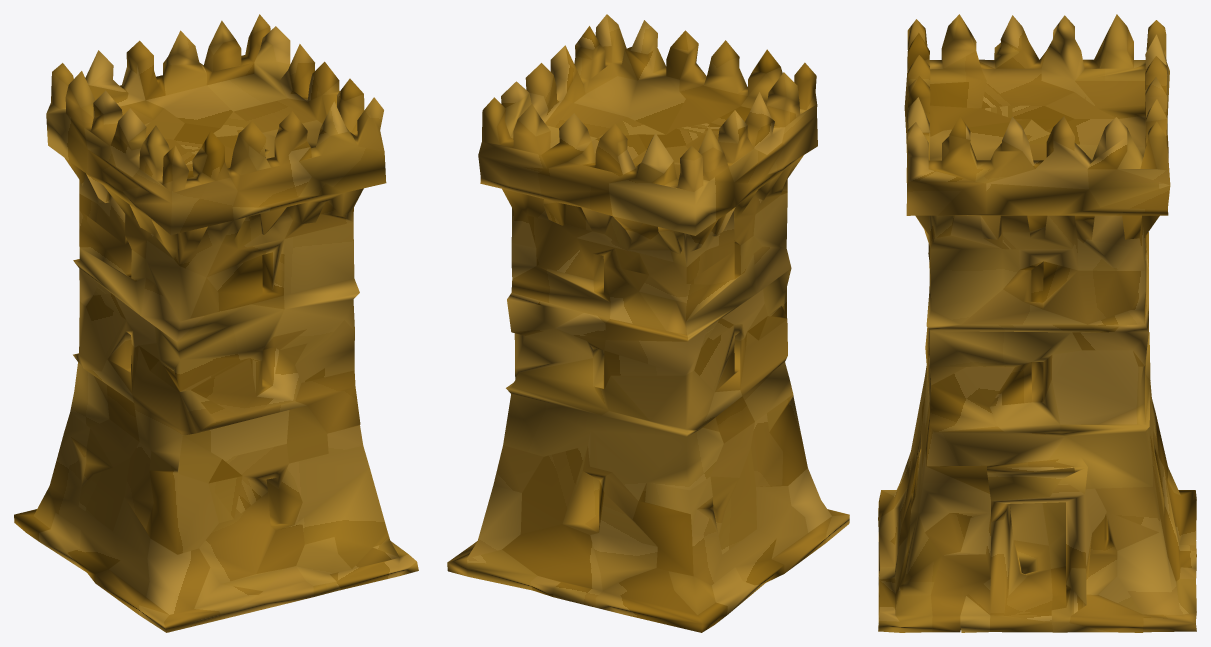
The model's file is castle_tower_medium_gold_lo.glb.
3 renders of one model, left to right at view 1: azimuth 30°, elevation 25°; view 2: azimuth 150°, elevation 25°; view 3: azimuth 270°, elevation 25°, orthographic. The views are drawn at different scales.
Parts seen in each view (by area): view 1: tripo_node_25803293-13b0-449f-b9ed-82eb2ad4be2f; view 2: tripo_node_25803293-13b0-449f-b9ed-82eb2ad4be2f; view 3: tripo_node_25803293-13b0-449f-b9ed-82eb2ad4be2f.
Boxes of the visible parts, x1,y1,x2,y2 form: tripo_node_25803293-13b0-449f-b9ed-82eb2ad4be2f: (14, 14, 418, 632); tripo_node_25803293-13b0-449f-b9ed-82eb2ad4be2f: (447, 14, 849, 632); tripo_node_25803293-13b0-449f-b9ed-82eb2ad4be2f: (878, 14, 1196, 632).
Size of the model in its own units: 0.5546 by 0.9792 by 0.5631.
Materials: 1 (1 with a texture image).
